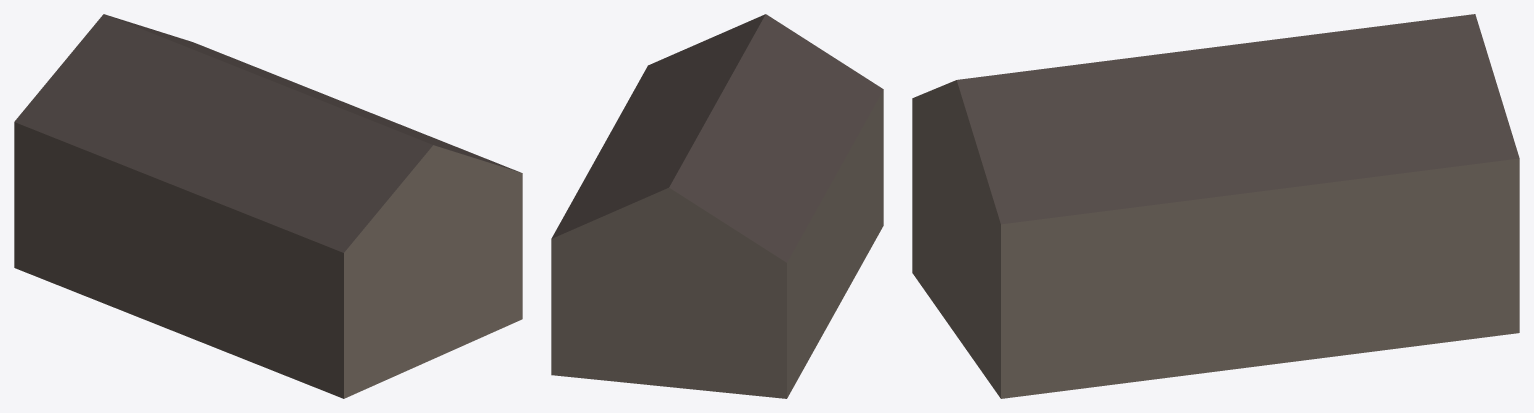
3 renders of one model, left to right at view 1: azimuth 30°, elevation 25°; view 2: azimuth 150°, elevation 25°; view 3: azimuth 270°, elevation 25°, orthographic. The views are drawn at different scales.
Visible parts, largest first — view 1: HP-w859467720; view 2: HP-w859467720; view 3: HP-w859467720.
Boxes of the visible parts, box(x1,y1,x2,y2) form: HP-w859467720: box(14, 14, 522, 398); HP-w859467720: box(551, 14, 883, 398); HP-w859467720: box(912, 14, 1519, 398).
Size of the model in its own units: 14.15 by 8.8 by 18.91.
